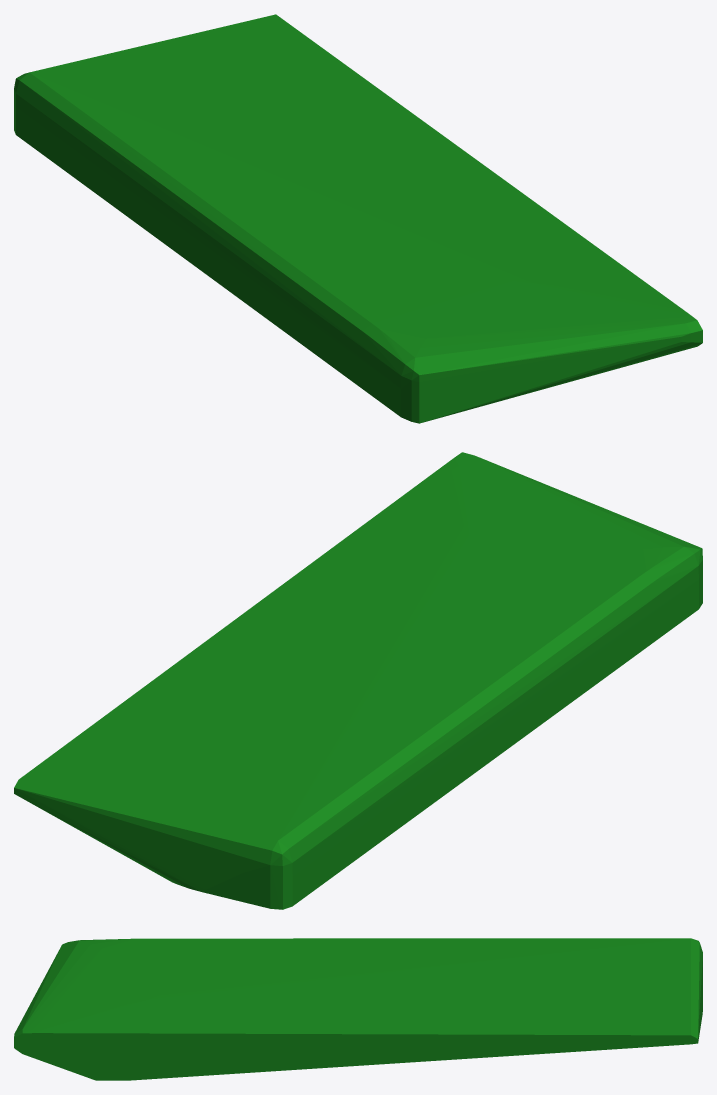
The model's file is left_palm_part_8.obj.
3 renders of one model, top to bottom at view 1: azimuth 30°, elevation 25°; view 2: azimuth 150°, elevation 25°; view 3: azimuth 270°, elevation 25°, orthographic. The views are drawn at different scales.
Size of the model in its own units: 11.04 by 2.43 by 31.88.
